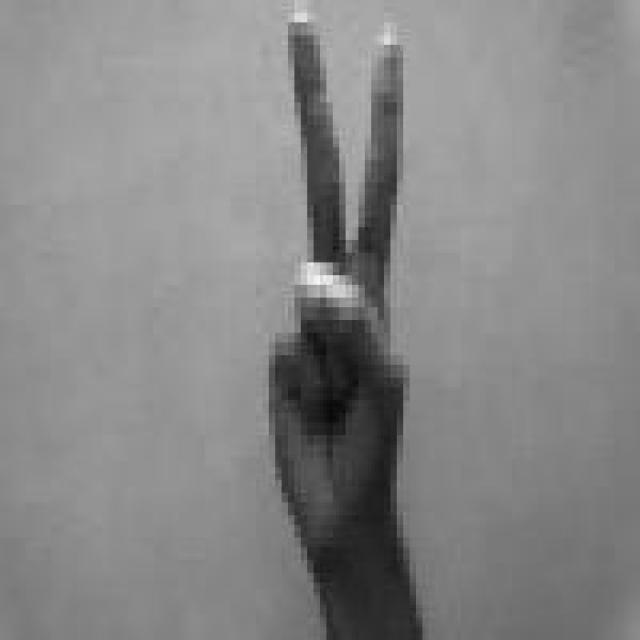V: (261, 6, 427, 564)
